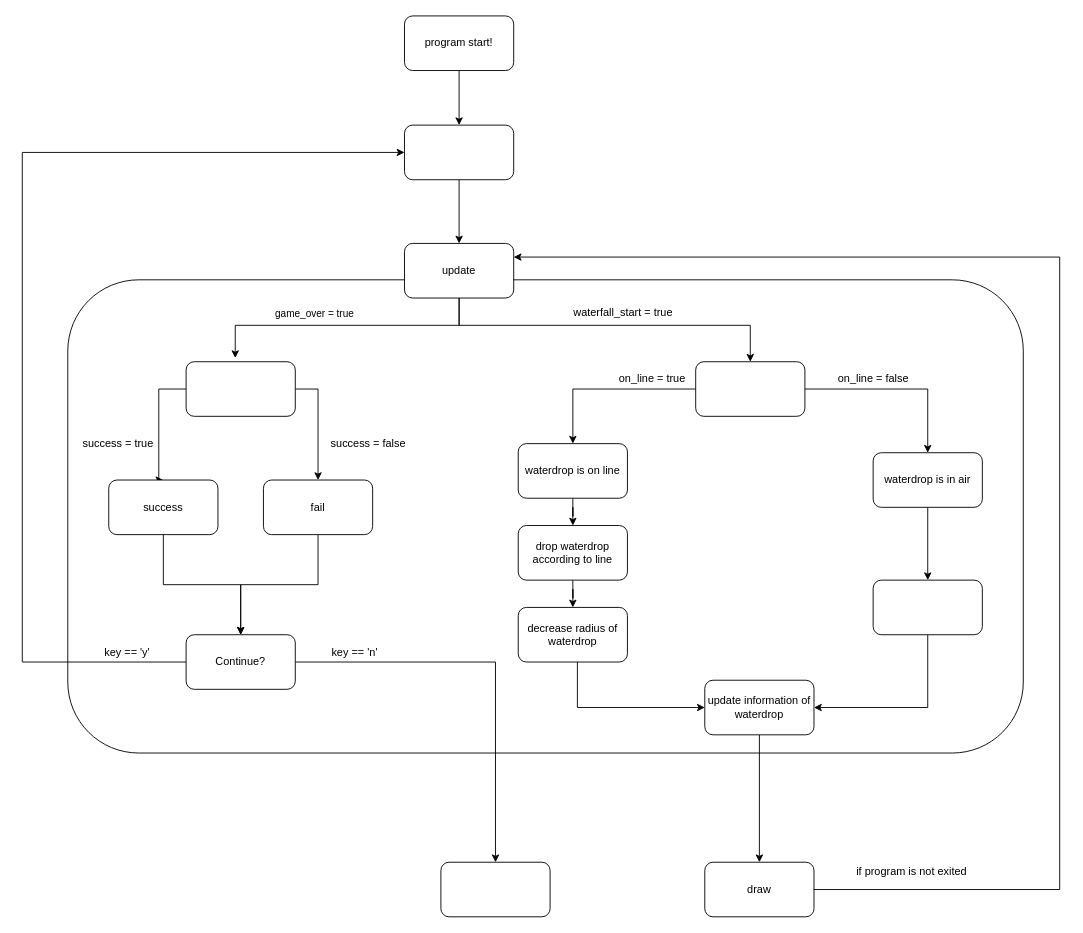
Image size: 1083x933. Some labels were removed from this diagram. Here are the shapes that lost their labels. From the top down, the box of each, then its label:
(404, 124, 514, 180): setup
(185, 361, 295, 416): game is over
(695, 361, 805, 416): waterfall is started
(872, 579, 982, 635): drop waterdrop vertically
(440, 861, 550, 917): Exit Program
